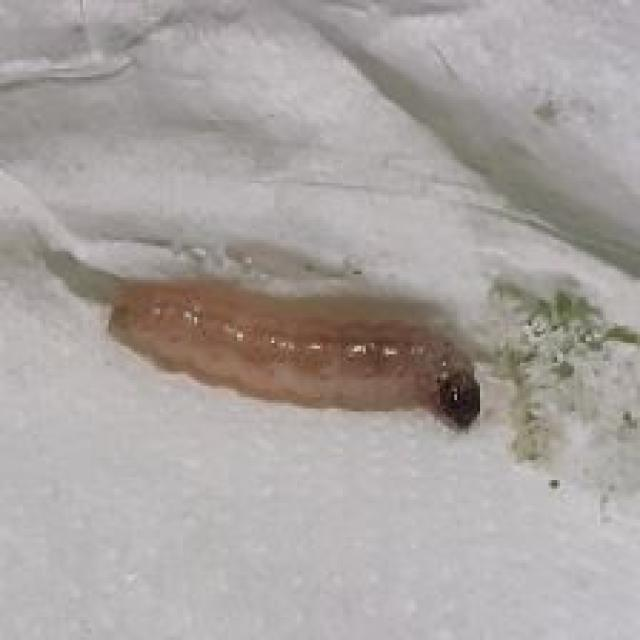white mucus: (111, 270, 503, 452)
